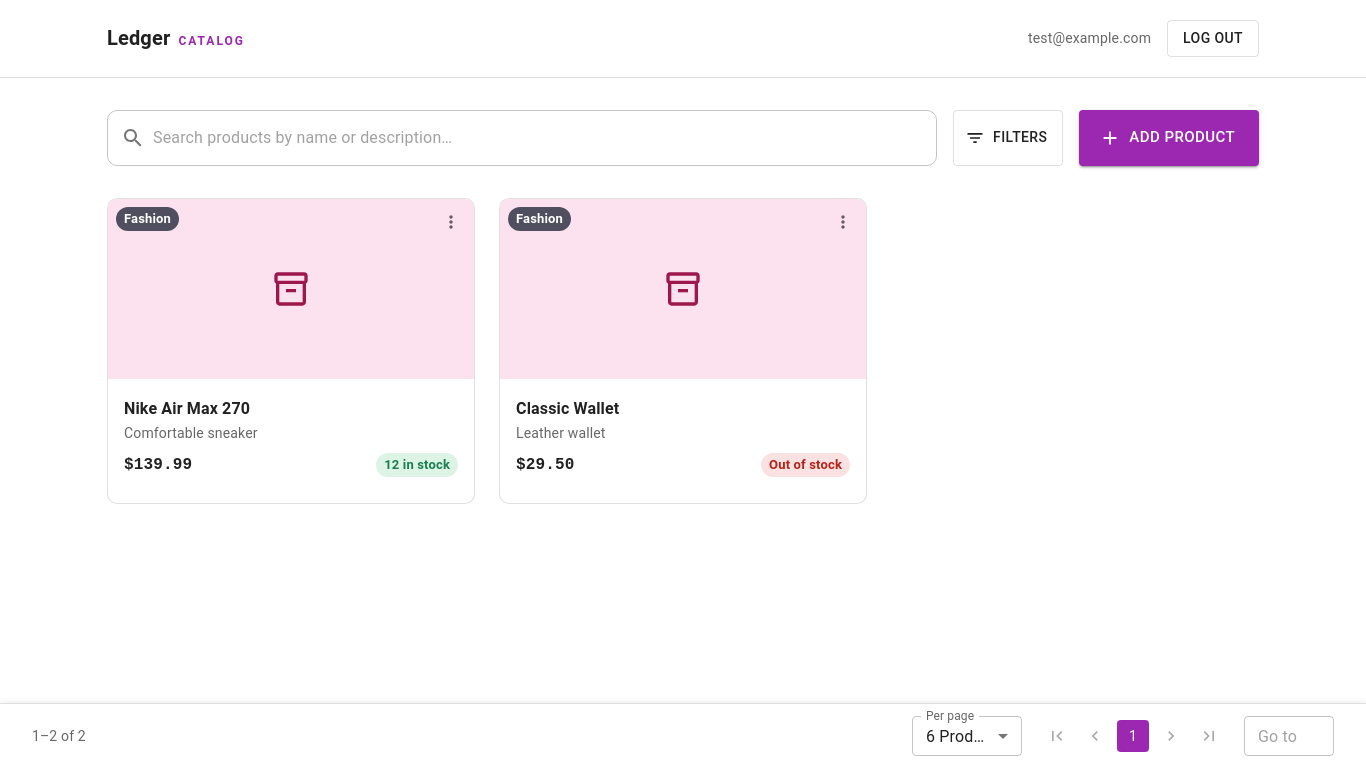
Test case: ProductsPage › shows a validation error instead of submitting an incomplete form
Expected: the heading "Nike Air Max 270" is shown, [124, 398, 250, 418]
Click the button "Add product": (1169, 138) [1079, 110, 1259, 166]
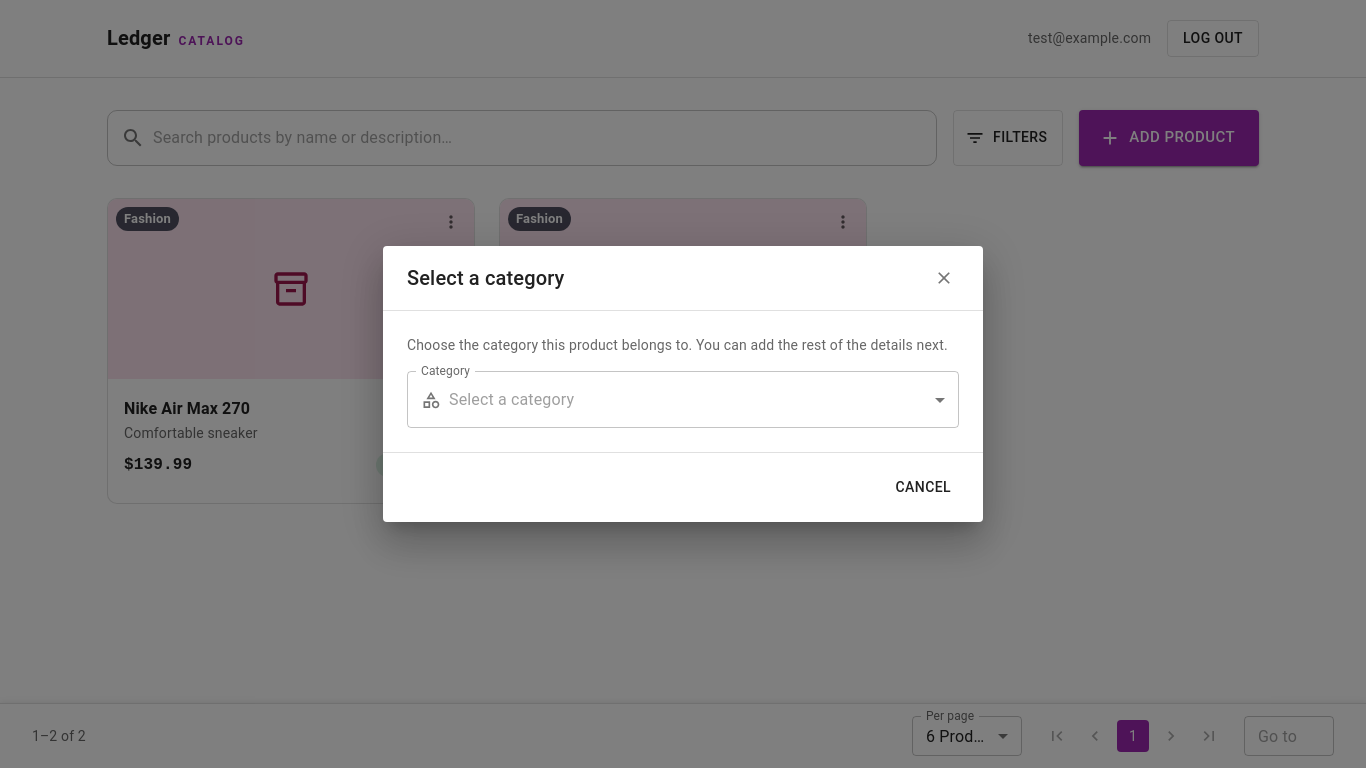
Press the mouse on the dropdown labelled "category": (512, 399) [449, 390, 574, 409]
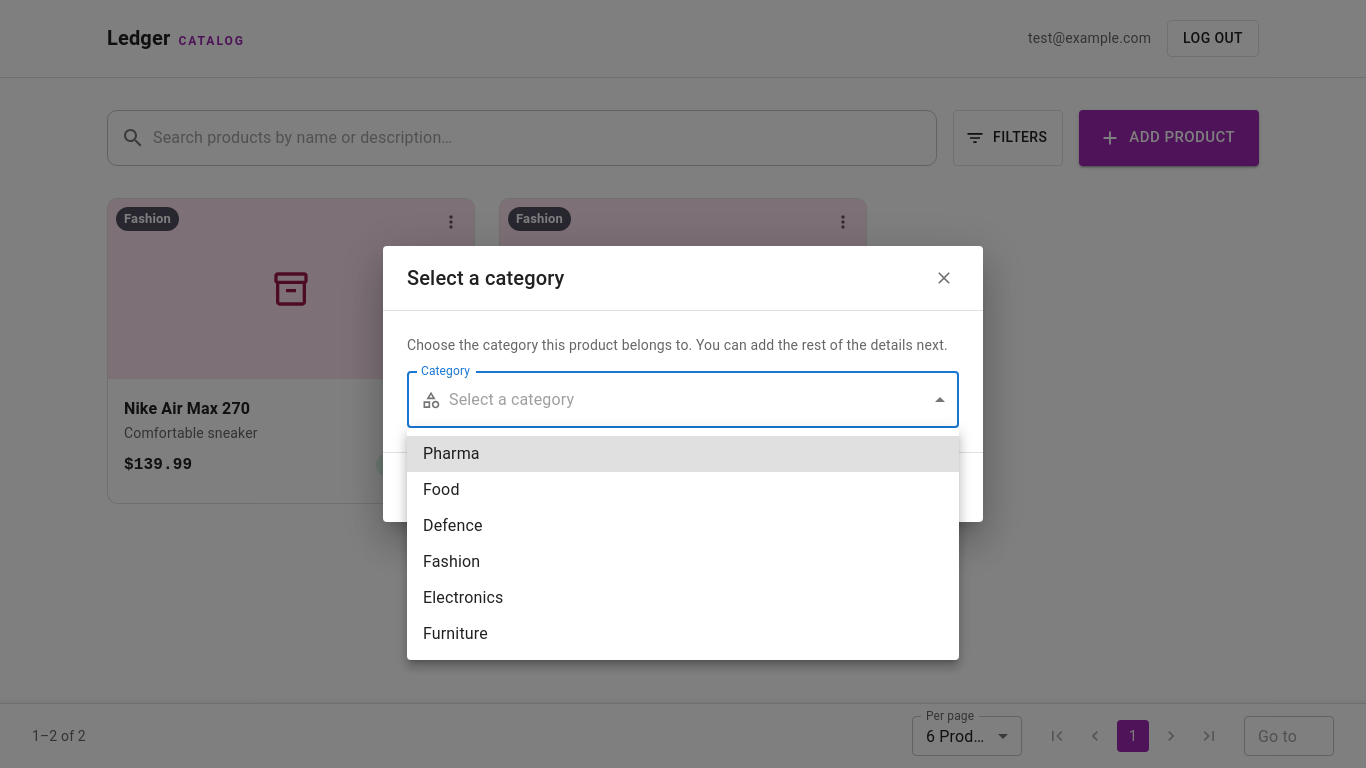
Click the option "Food": (441, 490) [423, 480, 460, 499]
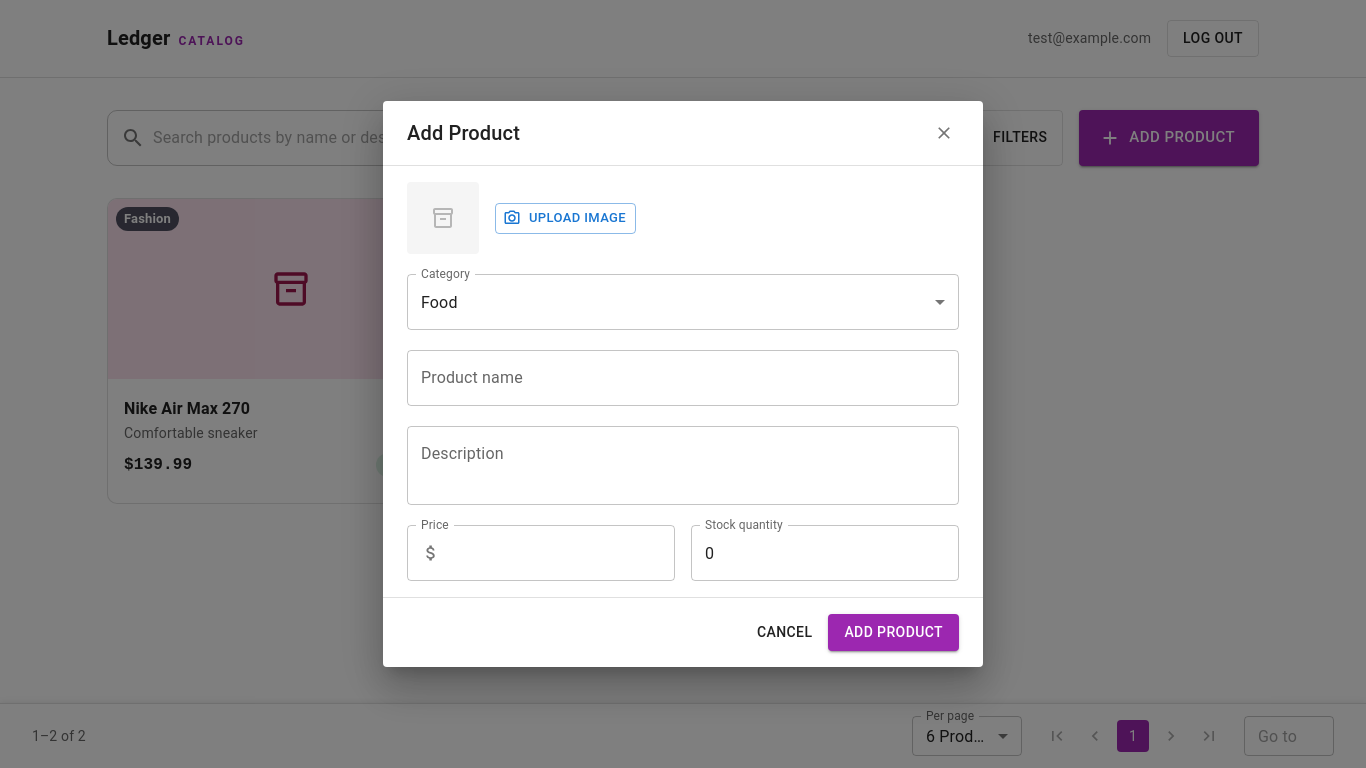
Click the button "Add product": (894, 633) [828, 614, 959, 651]
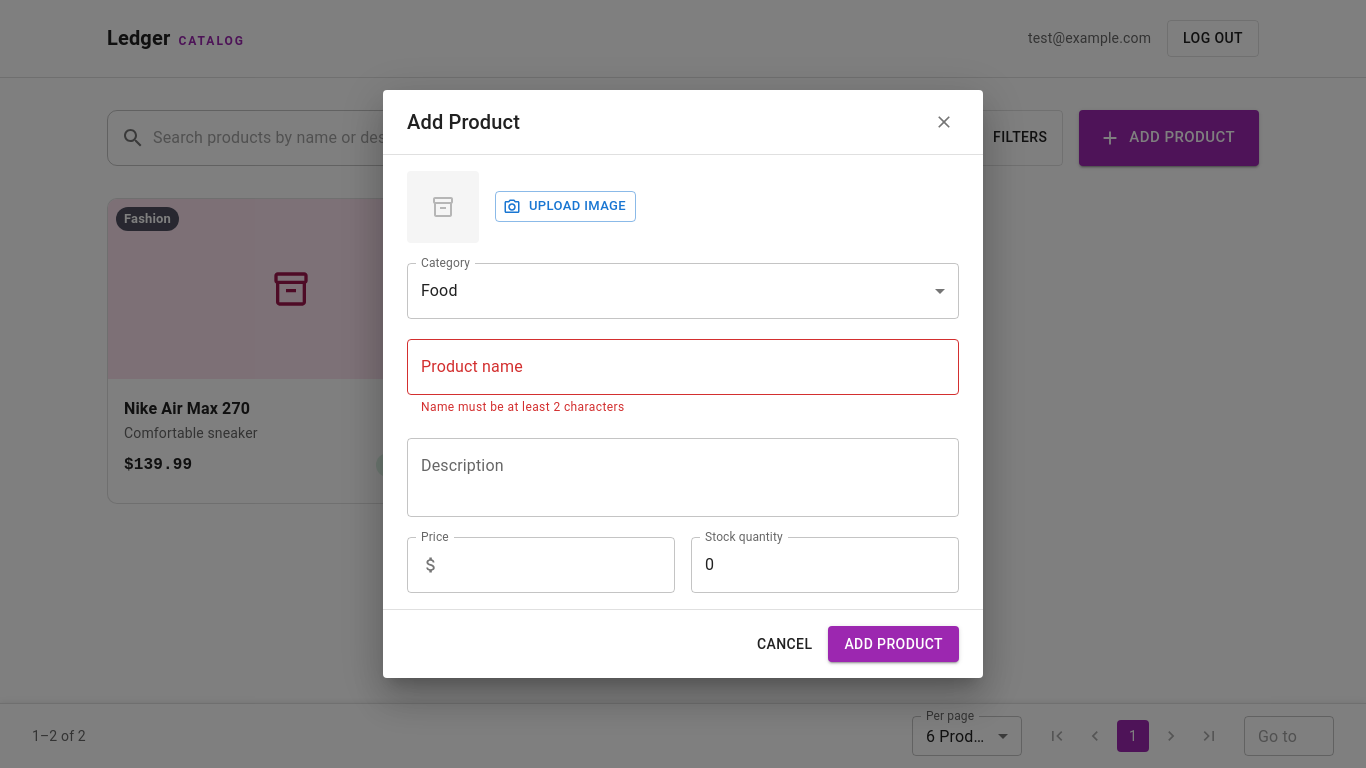
Now the text "Name must be at least 2 characters" is shown, box [421, 400, 624, 414]
